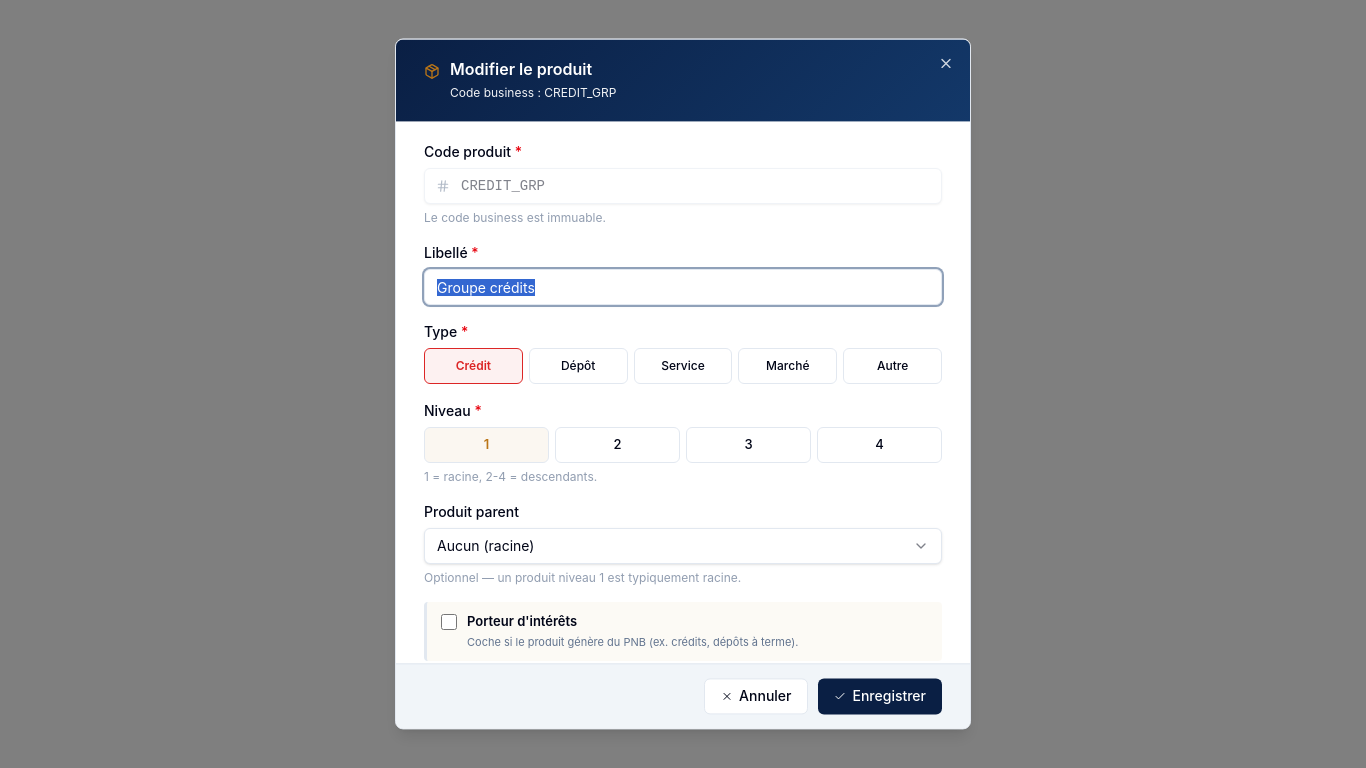
ProduitFormDrawer › mode edit : bandeau SCD2 contextuel après modification libellé
Expected: the text "SCD2 — Modification d'attribut historisé" is not shown
Replace the text in the field labelled "Libellé *" with "Crédits (rénové)" at (683, 287), box top-left (424, 269), bottom-right (942, 305)
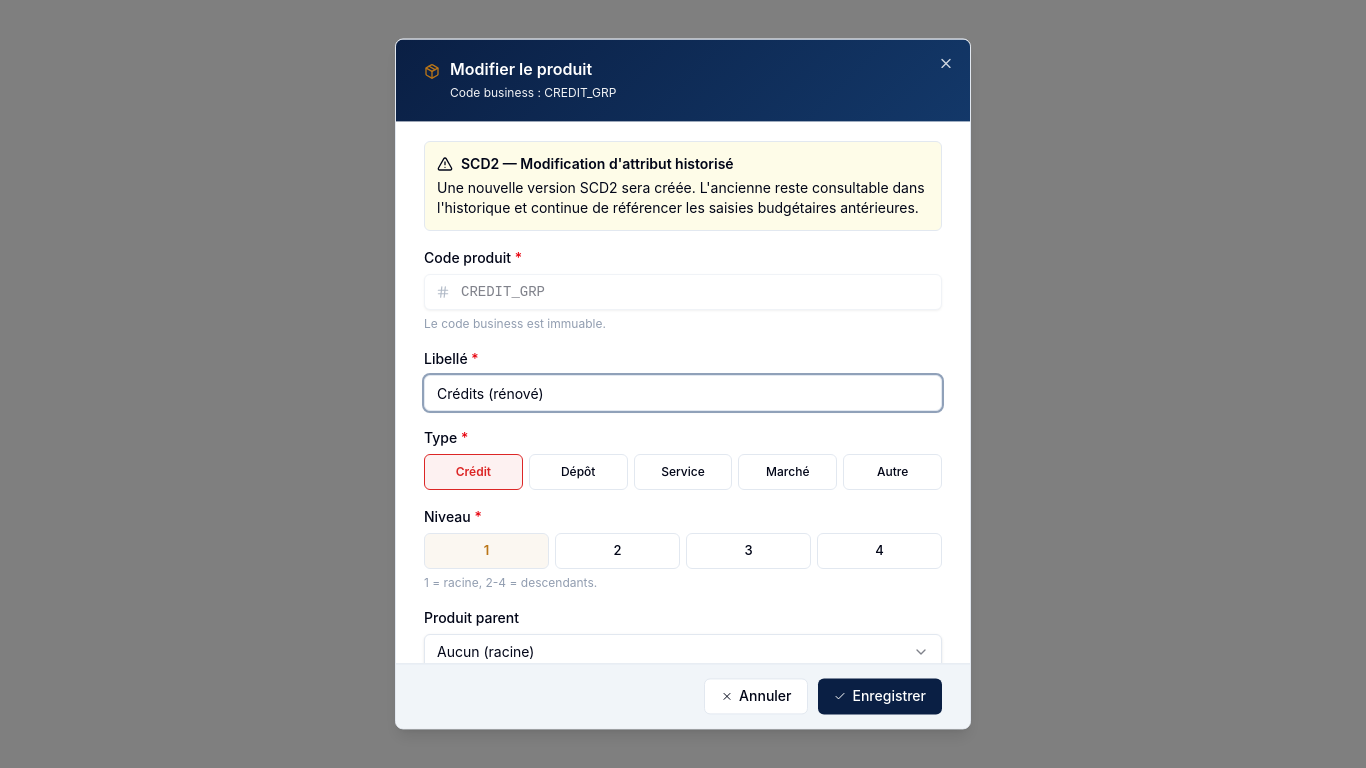
Expected: the text "SCD2 — Modification d'attribut historisé" is shown, top-left (437, 155), bottom-right (734, 172)
